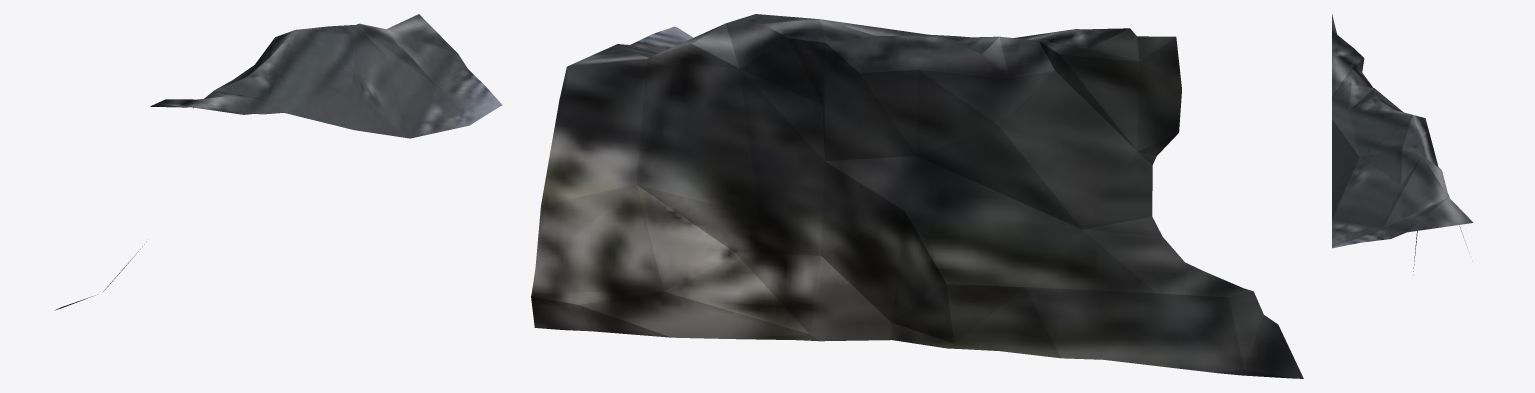
The picture shows the model from 3 angles, left to right: view 1: azimuth 30°, elevation 25°; view 2: azimuth 150°, elevation 25°; view 3: azimuth 270°, elevation 25°; orthographic projection. The views are drawn at different scales.
Bounding box in the file's own units: 1.82 × 0.8586 × 0.7189.
1 material, 1 textured.
